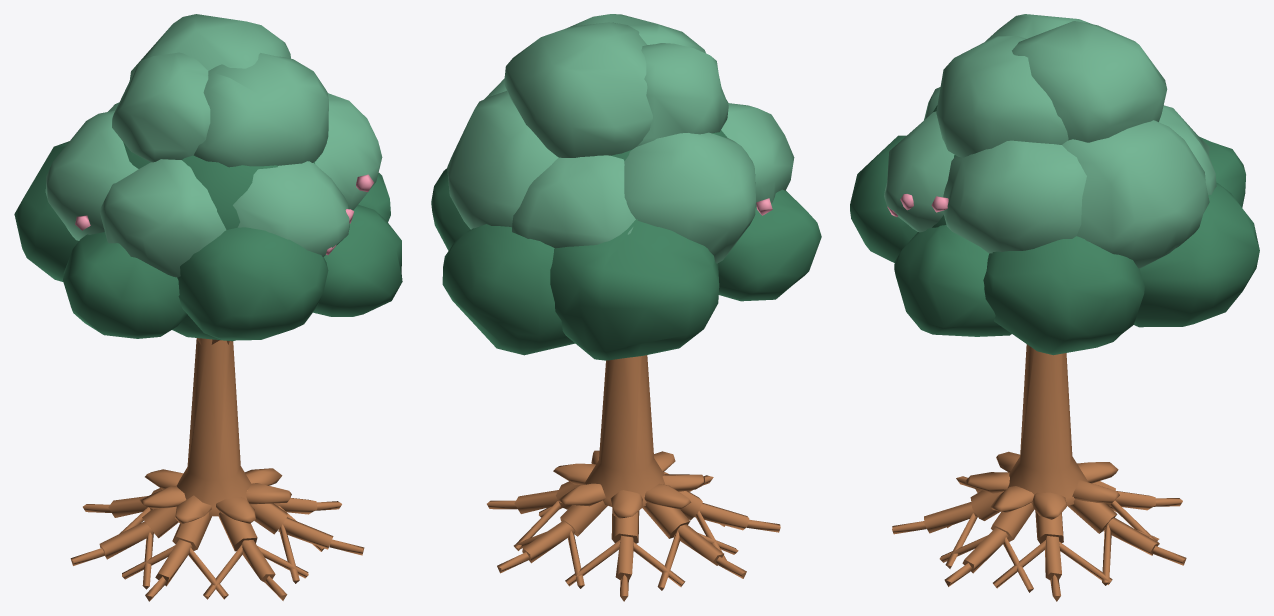
The model's file is tree_small.glb.
The picture shows the model from 3 angles, left to right: view 1: azimuth 30°, elevation 25°; view 2: azimuth 150°, elevation 25°; view 3: azimuth 270°, elevation 25°; orthographic projection.
Parts seen in each view (by area): view 1: tree_small; view 2: tree_small; view 3: tree_small.
Part boxes in pixels (x1,y1,x2,y2): tree_small: (14,14,402,601); tree_small: (431,14,821,601); tree_small: (850,14,1259,601).
Size of the model in its own units: 2.85 by 4.14 by 2.93.
Materials: 1 (1 with a texture image).
